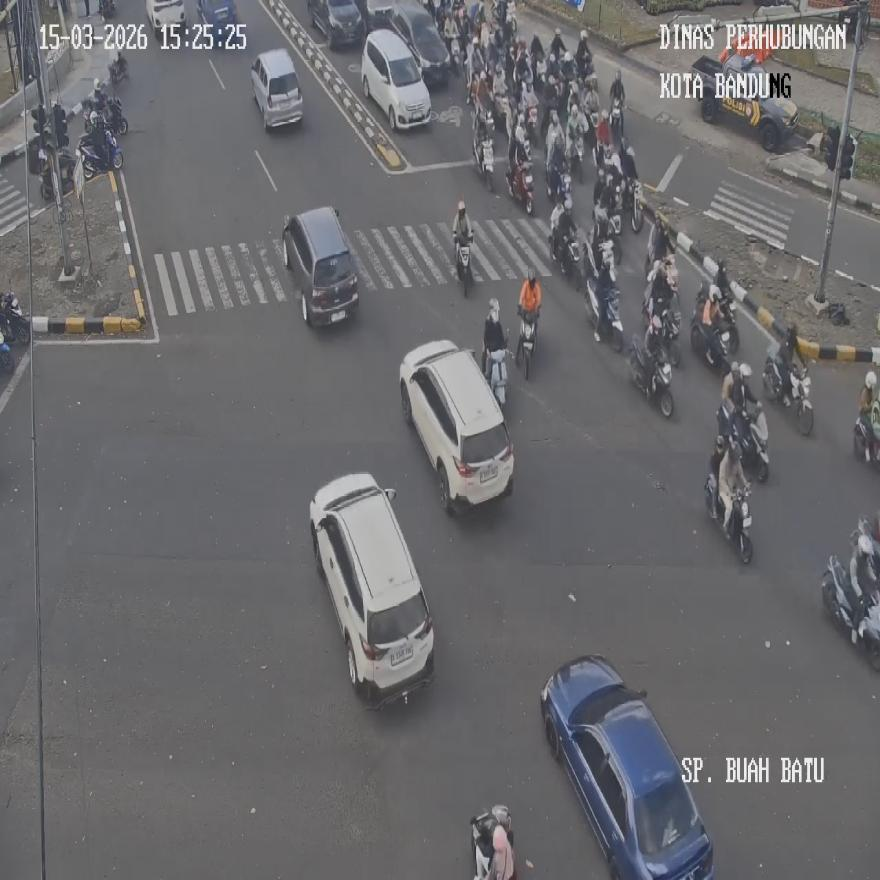Mobil: (540, 654, 713, 879), (309, 472, 434, 704), (398, 340, 514, 512), (280, 207, 359, 324), (360, 29, 431, 130), (252, 48, 302, 127)
Motor: (822, 557, 879, 672), (705, 474, 752, 563), (717, 403, 769, 482), (630, 337, 673, 417), (471, 806, 514, 879), (586, 279, 623, 353), (691, 309, 730, 375), (77, 130, 123, 179), (786, 365, 813, 436), (0, 289, 31, 345), (851, 518, 879, 579), (515, 307, 536, 381), (660, 295, 681, 367), (559, 235, 584, 292), (719, 285, 739, 356), (507, 163, 534, 215), (488, 349, 509, 408), (608, 184, 623, 264), (454, 235, 473, 297), (473, 135, 494, 191), (854, 418, 879, 465), (623, 179, 644, 233), (546, 164, 571, 204), (599, 223, 622, 265), (104, 96, 127, 136), (585, 112, 599, 166), (108, 51, 128, 86), (41, 151, 54, 201), (493, 91, 510, 129), (570, 137, 584, 182), (445, 37, 461, 75), (0, 333, 15, 373), (525, 103, 538, 143), (610, 98, 622, 140), (534, 58, 546, 95), (99, 0, 116, 19)
